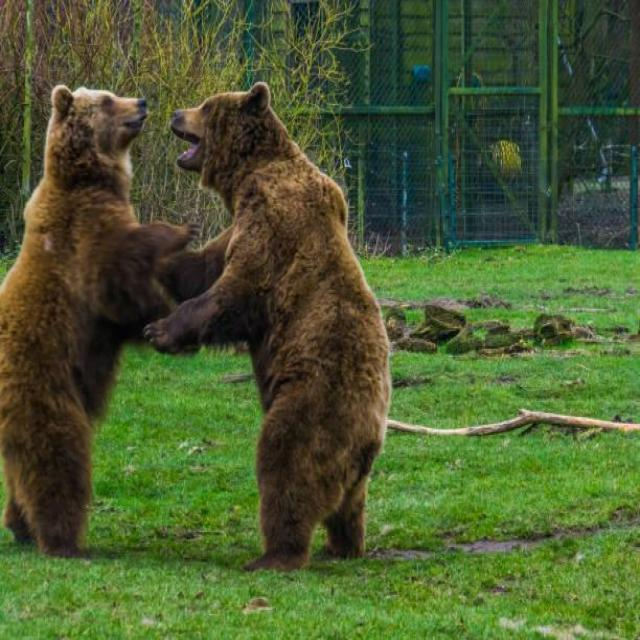Bear: (141, 82, 392, 574), (0, 85, 193, 562)
